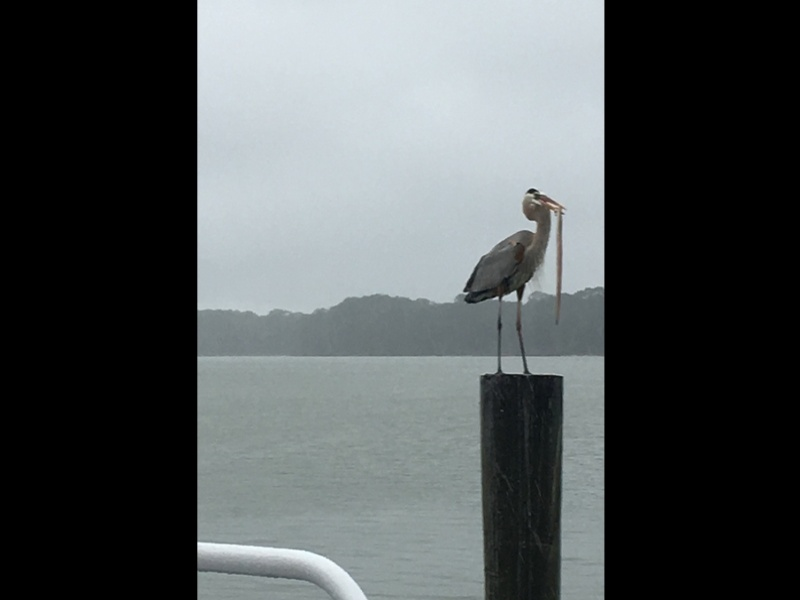heron: (464, 186, 563, 374)
